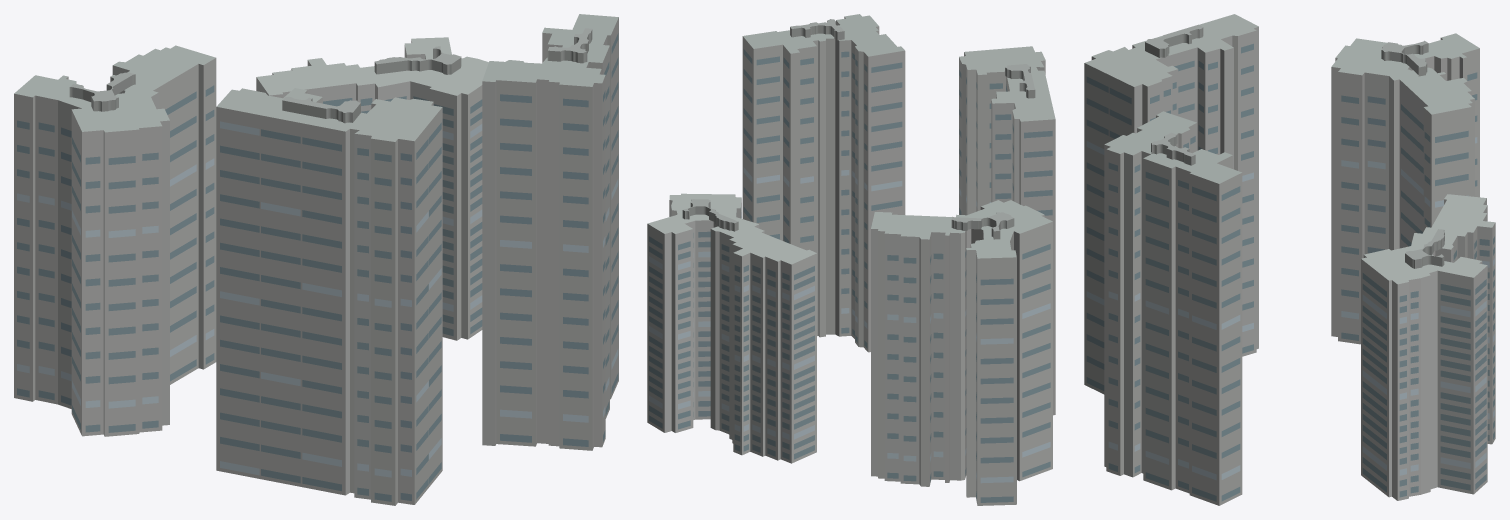
Rendered from apt-a10024703.glb.
3 views of the same model, side by side, from view 1: azimuth 30°, elevation 25°; view 2: azimuth 150°, elevation 25°; view 3: azimuth 270°, elevation 25° (orthographic). The views are drawn at different scales.
Parts seen in each view (by area): view 1: apt-a10024703; view 2: apt-a10024703; view 3: apt-a10024703.
Boxes of the visible parts, box(x1,y1,x2,y2) form: apt-a10024703: box(14, 14, 618, 505); apt-a10024703: box(647, 14, 1055, 505); apt-a10024703: box(1084, 14, 1495, 505).
Bounding box in the file's own units: 116 × 88 × 99.03.
